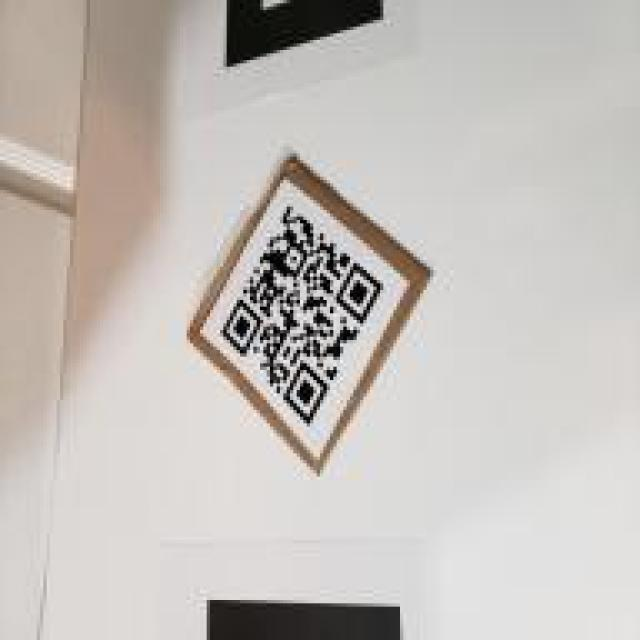QR_CODE: (210, 187, 390, 433)
